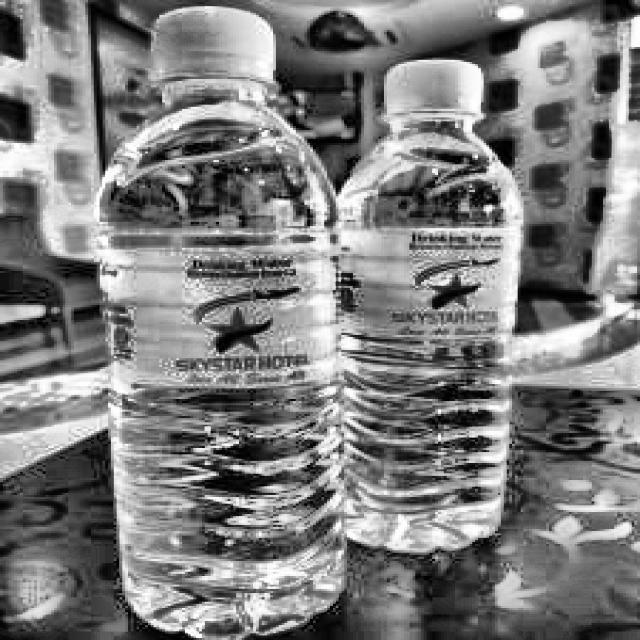waterbottle: (86, 0, 362, 640), (310, 49, 528, 566)
